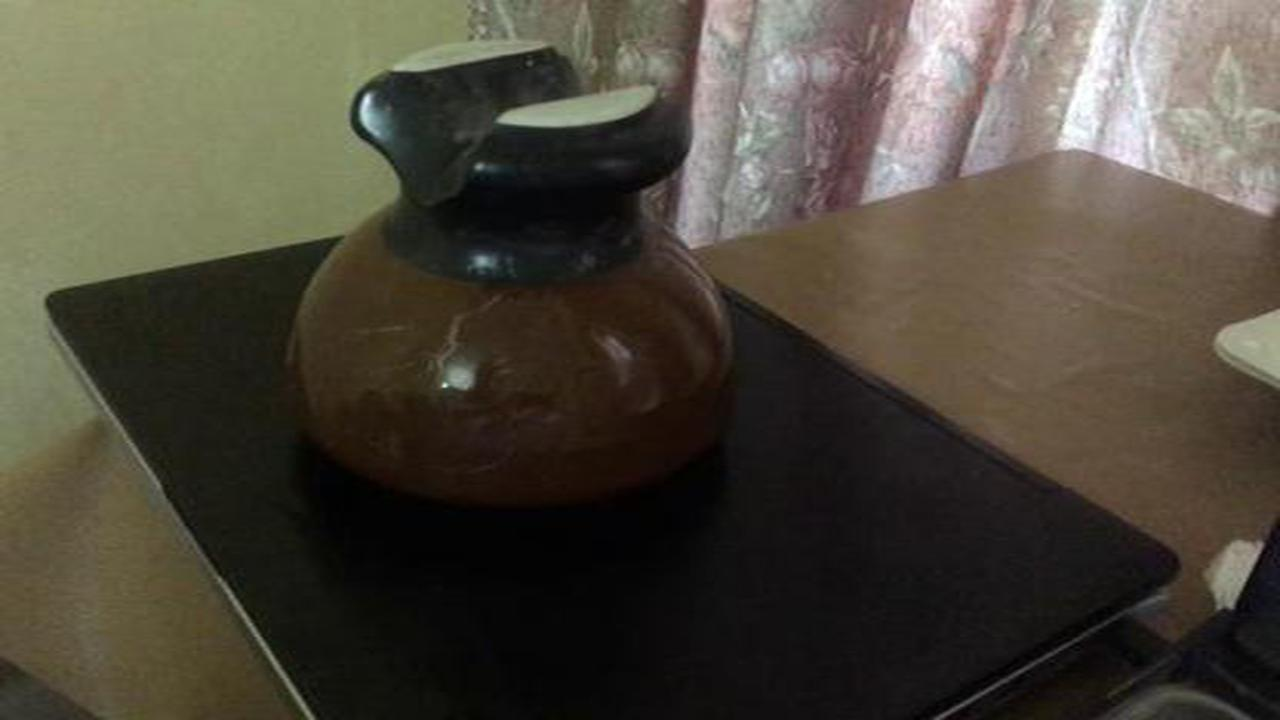insulator_pin: (274, 21, 770, 532)
